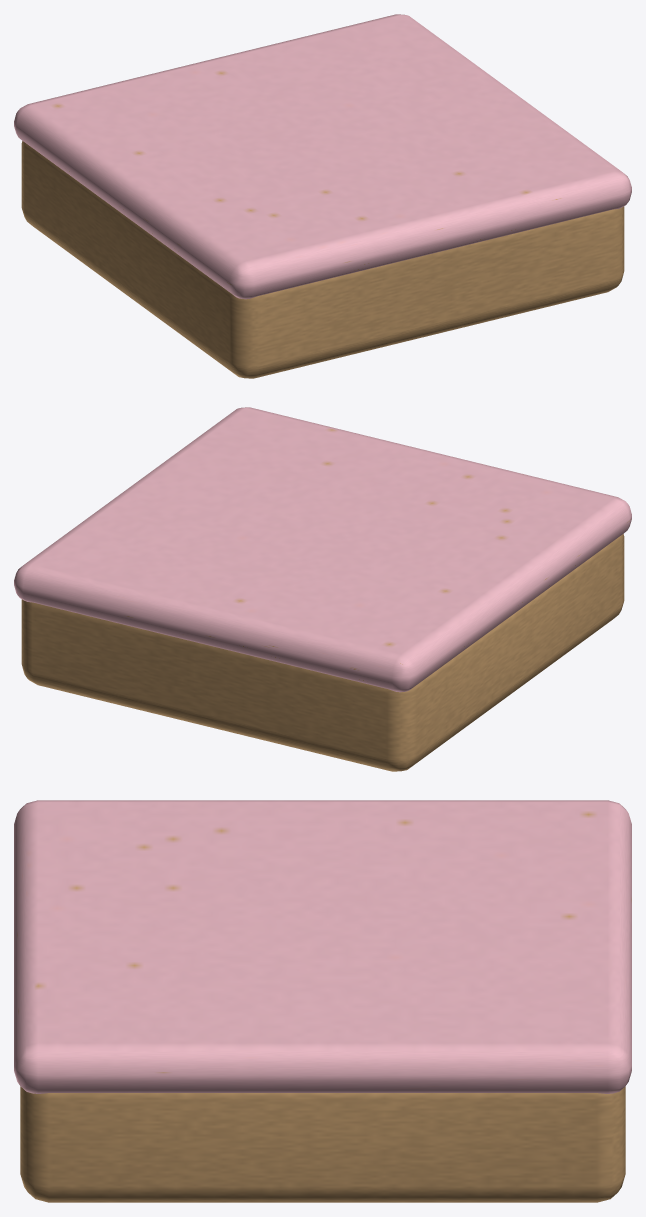
The model's file is tile_kitchen_strawberry.glb.
The picture shows the model from 3 angles, top to bottom: view 1: azimuth 30°, elevation 25°; view 2: azimuth 150°, elevation 25°; view 3: azimuth 270°, elevation 25°; orthographic projection. The views are drawn at different scales.
Visible parts, largest first — view 1: frosting_surface, biscuit_body; view 2: frosting_surface, biscuit_body; view 3: frosting_surface, biscuit_body.
Boxes of the visible parts, box(x1,y1,x2,y2) form: frosting_surface: box(14, 14, 631, 299); biscuit_body: box(21, 141, 624, 378); frosting_surface: box(14, 407, 631, 692); biscuit_body: box(21, 534, 624, 771); frosting_surface: box(14, 800, 631, 1093); biscuit_body: box(20, 1086, 625, 1202).
Size of the model in its own units: 0.97 by 0.28 by 0.97.
Materials: 3 (3 with a texture image).
